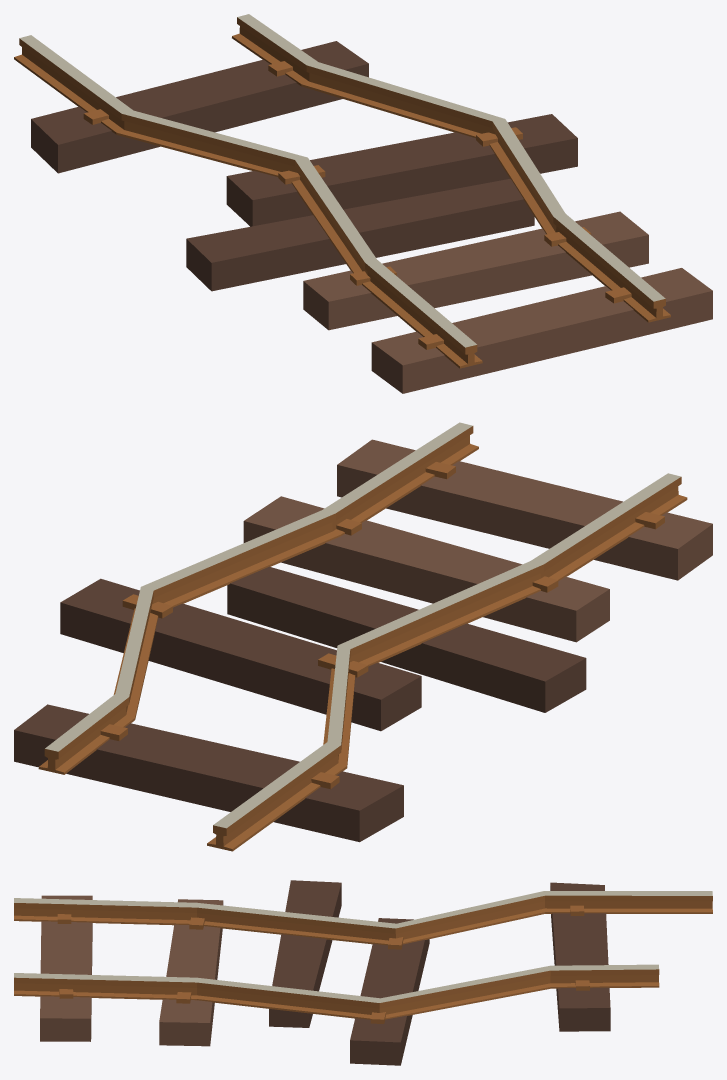
Rendered from Train Track 6 M Jiggle .glb.
The picture shows the model from 3 angles, top to bottom: view 1: azimuth 30°, elevation 25°; view 2: azimuth 150°, elevation 25°; view 3: azimuth 270°, elevation 25°; orthographic projection. The views are drawn at different scales.
Visible parts, largest first — view 1: Train Track 6 M Jiggle; view 2: Train Track 6 M Jiggle; view 3: Train Track 6 M Jiggle.
Part boxes in pixels (x1,y1,x2,y2): Train Track 6 M Jiggle: [14, 14, 712, 393]; Train Track 6 M Jiggle: [14, 422, 712, 851]; Train Track 6 M Jiggle: [14, 880, 712, 1065].
Size of what is drawn, in the model's own units: 3.03 by 0.3385 by 5.52.
1 material, 1 textured.
